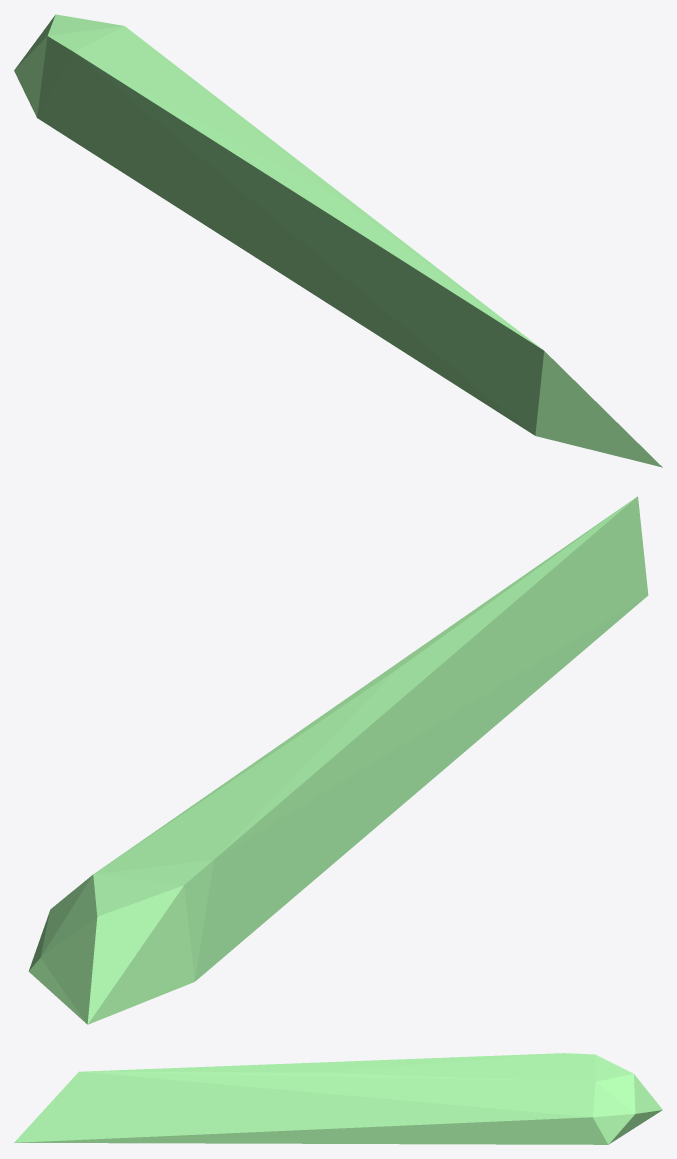
The model's file is UMIRobot_UMIRobot_link_3_convex_coll_17.dae.
3 renders of one model, top to bottom at view 1: azimuth 30°, elevation 25°; view 2: azimuth 150°, elevation 25°; view 3: azimuth 270°, elevation 25°, orthographic. The views are drawn at different scales.
Parts seen in each view (by area): view 1: node; view 2: node; view 3: node.
Boxes of the visible parts, box(x1,y1,x2,y2) form: node: box(14, 14, 662, 467); node: box(28, 496, 648, 1024); node: box(14, 1053, 662, 1144).
Size of the model in its own units: 0.0165 by 0.0117 by 0.1206.
